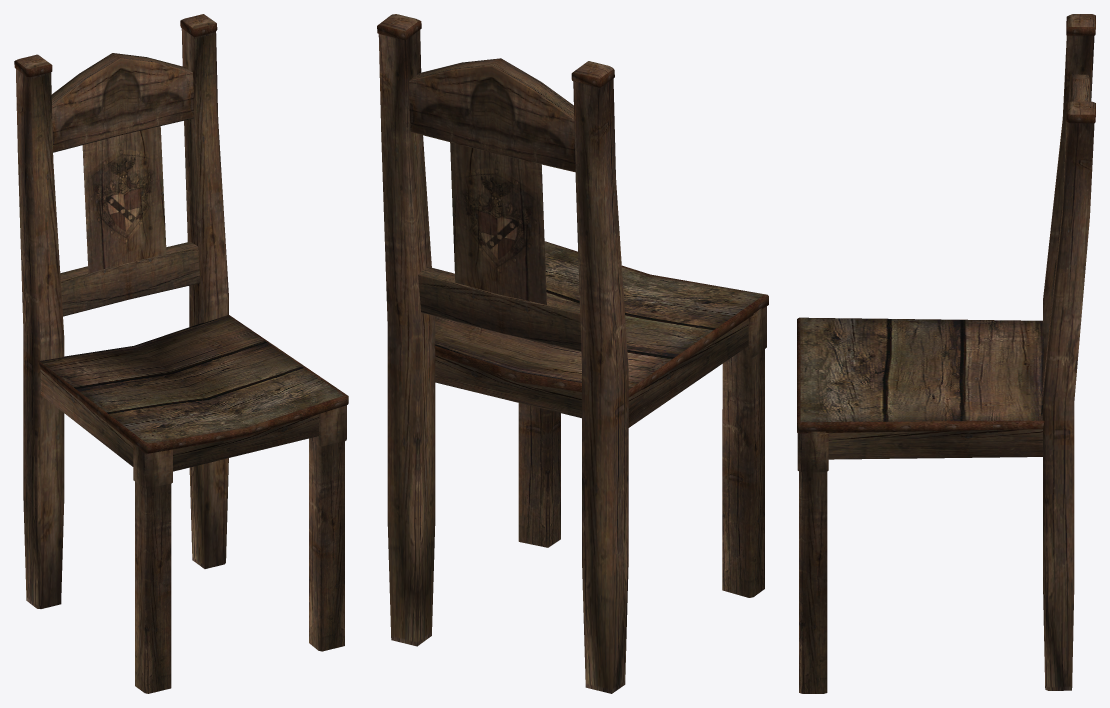
File: wchair1.gltf
3 renders of one model, left to right at view 1: azimuth 30°, elevation 25°; view 2: azimuth 150°, elevation 25°; view 3: azimuth 270°, elevation 25°, orthographic. The views are drawn at different scales.
Visible parts, largest first — view 1: wchair1; view 2: wchair1; view 3: wchair1.
Part boxes in pixels (<box>): wchair1: <box>14,14,348,693</box>; wchair1: <box>377,14,768,693</box>; wchair1: <box>797,14,1095,693</box>.
Size of the model in its own units: 0.6576 by 1.65 by 0.7712.
Materials: 1 (1 with a texture image).
